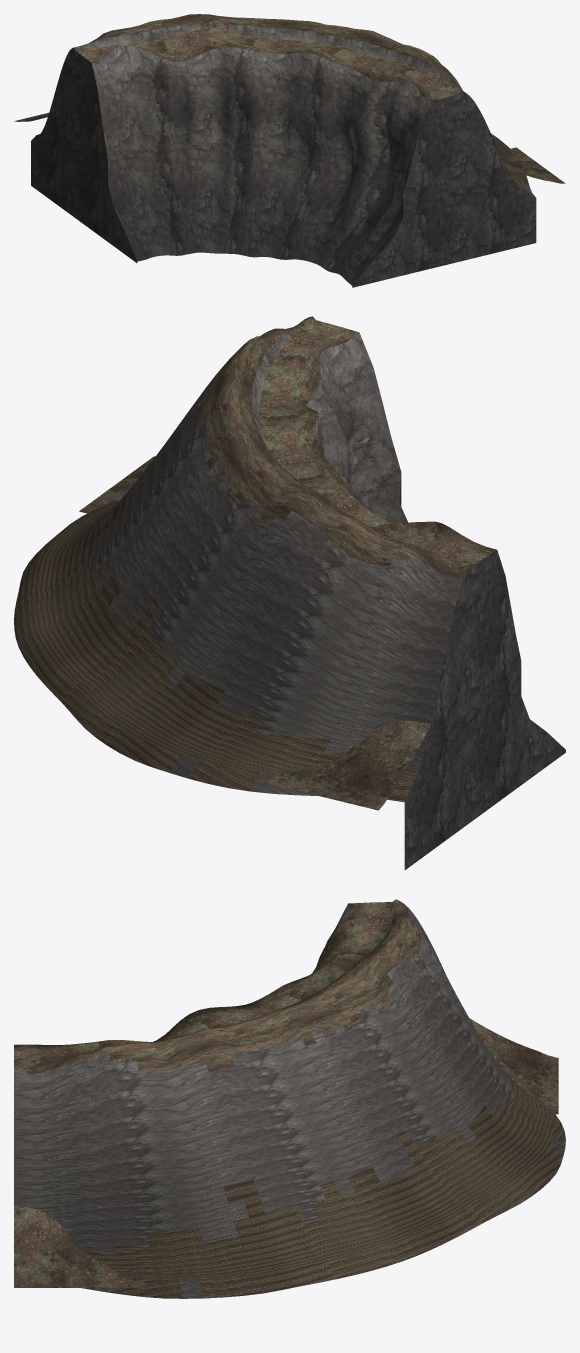
Rendered from seacliff_inner_h3_v5_autumn.glb.
3 renders of one model, top to bottom at view 1: azimuth 30°, elevation 25°; view 2: azimuth 150°, elevation 25°; view 3: azimuth 270°, elevation 25°, orthographic. The views are drawn at different scales.
Parts seen in each view (by area): view 1: seacliff_inner_h3; view 2: seacliff_inner_h3; view 3: seacliff_inner_h3.
Part boxes in pixels (<box>): seacliff_inner_h3: <box>14,14,565,287</box>; seacliff_inner_h3: <box>14,316,565,870</box>; seacliff_inner_h3: <box>14,899,565,1298</box>.
Bounding box in the file's own units: 9.83 × 4.92 × 9.91.
Materials: 2 (2 with a texture image).
